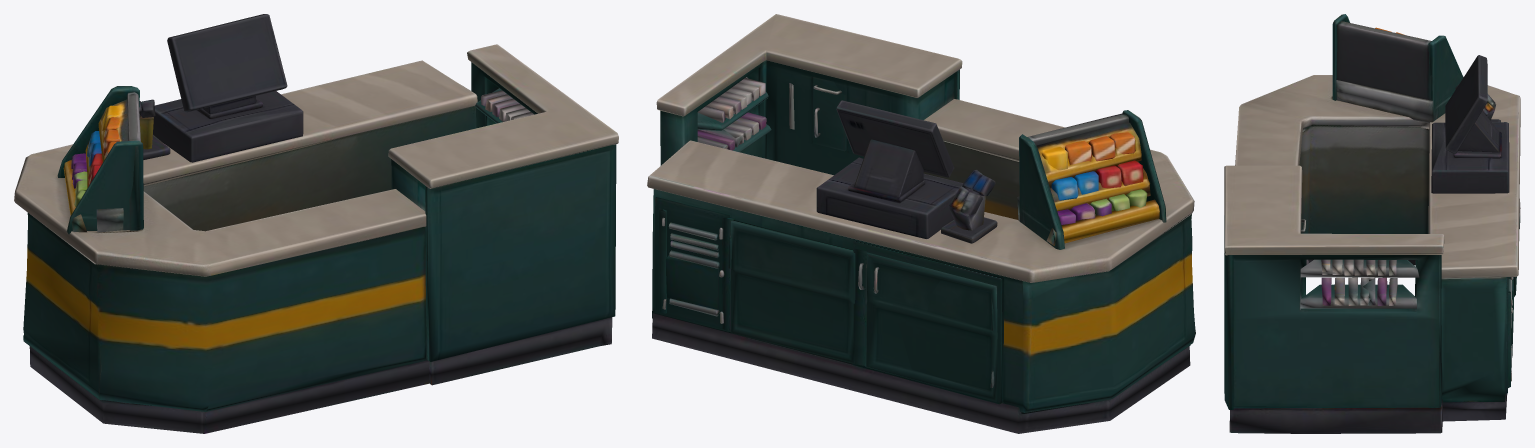
Rendered from checkout-counter.glb.
3 views of the same model, side by side, from view 1: azimuth 30°, elevation 25°; view 2: azimuth 150°, elevation 25°; view 3: azimuth 270°, elevation 25° (orthographic). The views are drawn at different scales.
Parts seen in each view (by area): view 1: meshy-checkout-counter; view 2: meshy-checkout-counter; view 3: meshy-checkout-counter.
Part boxes in pixels (x1=…): meshy-checkout-counter: x1=14, y1=14, x2=618, y2=433; meshy-checkout-counter: x1=647, y1=14, x2=1195, y2=433; meshy-checkout-counter: x1=1224, y1=14, x2=1520, y2=433.
Size of the model in its own units: 3 by 1.68 by 1.82.
Materials: 1 (1 with a texture image).
